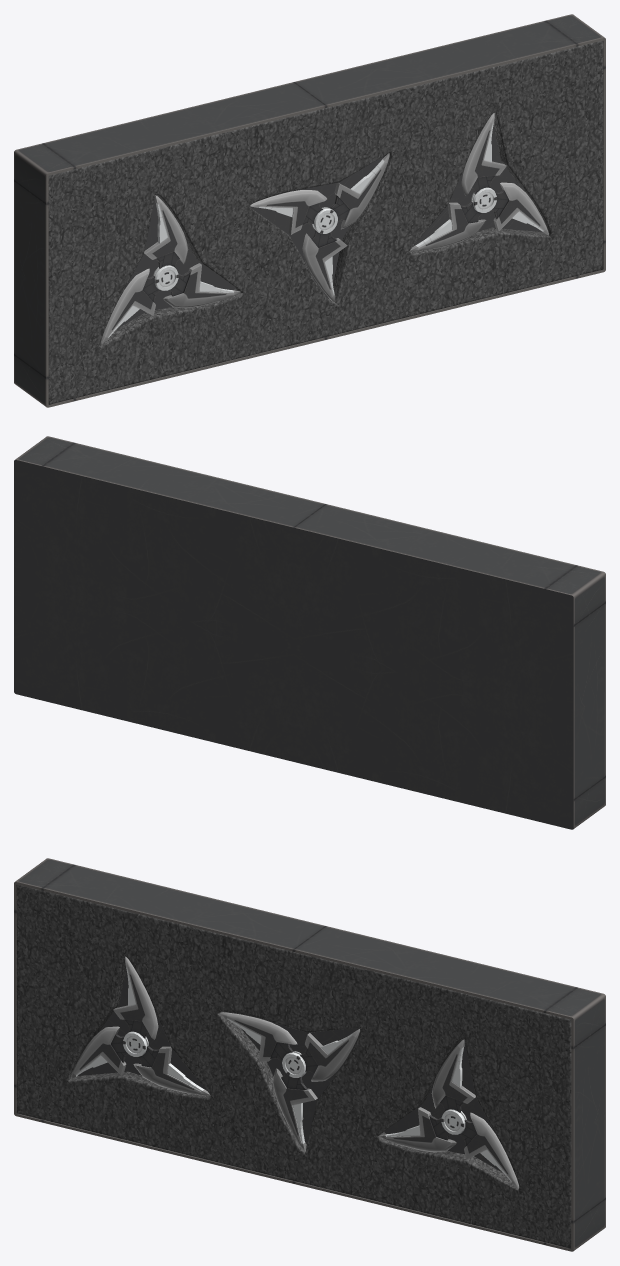
File: MeleeShuriken01Case.FBX
3 views of the same model, one above another, from view 1: azimuth 30°, elevation 25°; view 2: azimuth 150°, elevation 25°; view 3: azimuth 330°, elevation 25° (orthographic).
Parts seen in each view (by area): view 1: Case, Weapon; view 2: Case; view 3: Case, Weapon.
Boxes of the visible parts, x1=… form: Case: x1=14, y1=14, x2=605, y2=407; Weapon: x1=100, y1=113, x2=548, y2=344; Case: x1=14, y1=436, x2=605, y2=829; Case: x1=14, y1=858, x2=605, y2=1251; Weapon: x1=71, y1=956, x2=519, y2=1188.
Size of what is drawn, in the model's own units: 0.9999 by 0.4 by 0.1019.
